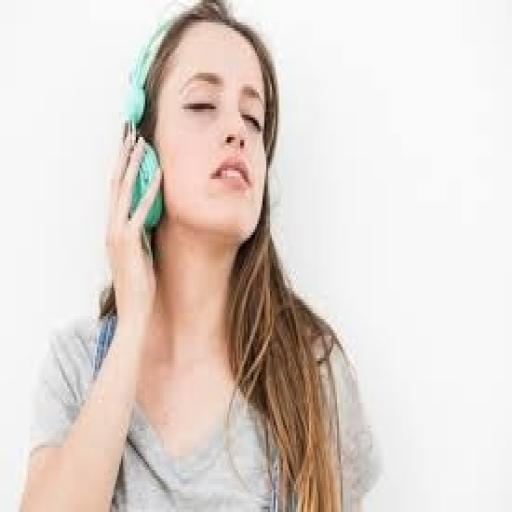listening_to_music: (15, 0, 380, 509)
